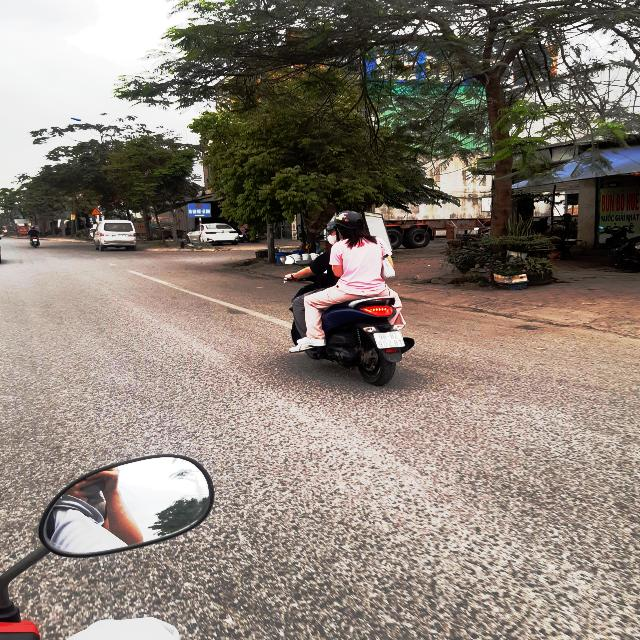license_plate: (374, 331, 407, 350)
